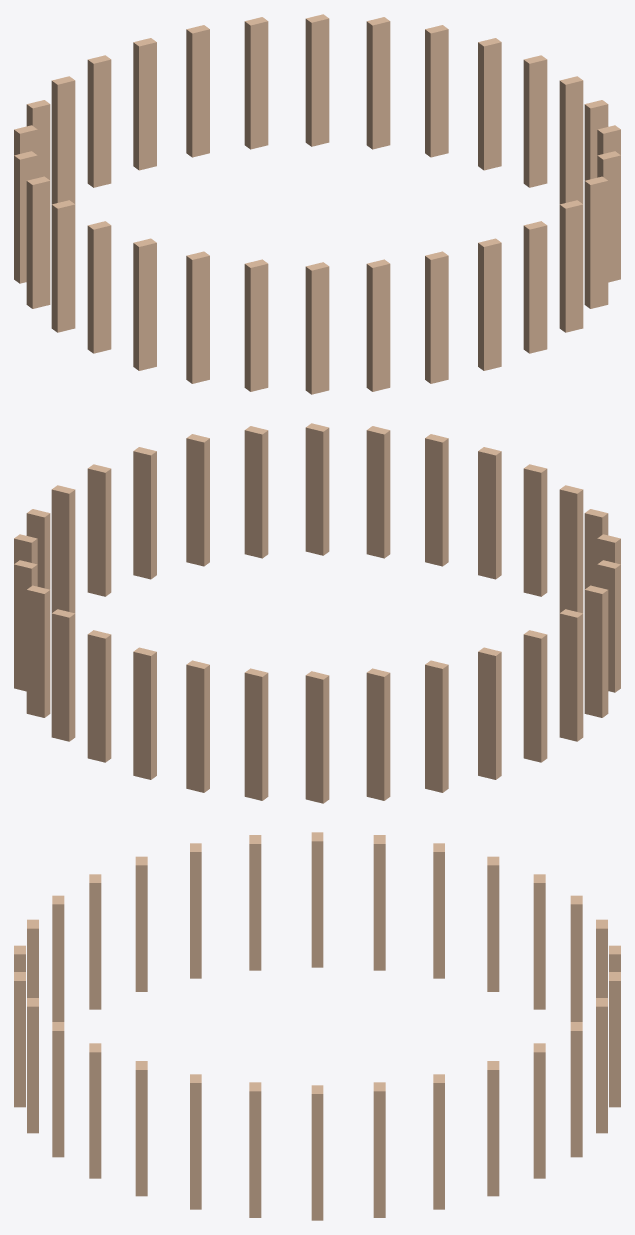
File: place-stonehenge.glb
The picture shows the model from 3 angles, top to bottom: view 1: azimuth 30°, elevation 25°; view 2: azimuth 150°, elevation 25°; view 3: azimuth 270°, elevation 25°; orthographic projection. The views are drawn at different scales.
Visible parts, largest first — view 1: place-stonehenge; view 2: place-stonehenge; view 3: place-stonehenge.
Boxes of the visible parts, box(x1,y1,x2,y2) form: place-stonehenge: box(14, 14, 620, 394); place-stonehenge: box(14, 423, 620, 803); place-stonehenge: box(14, 832, 620, 1220).
Bounding box in the file's own units: 31.05 × 7 × 30.44.
